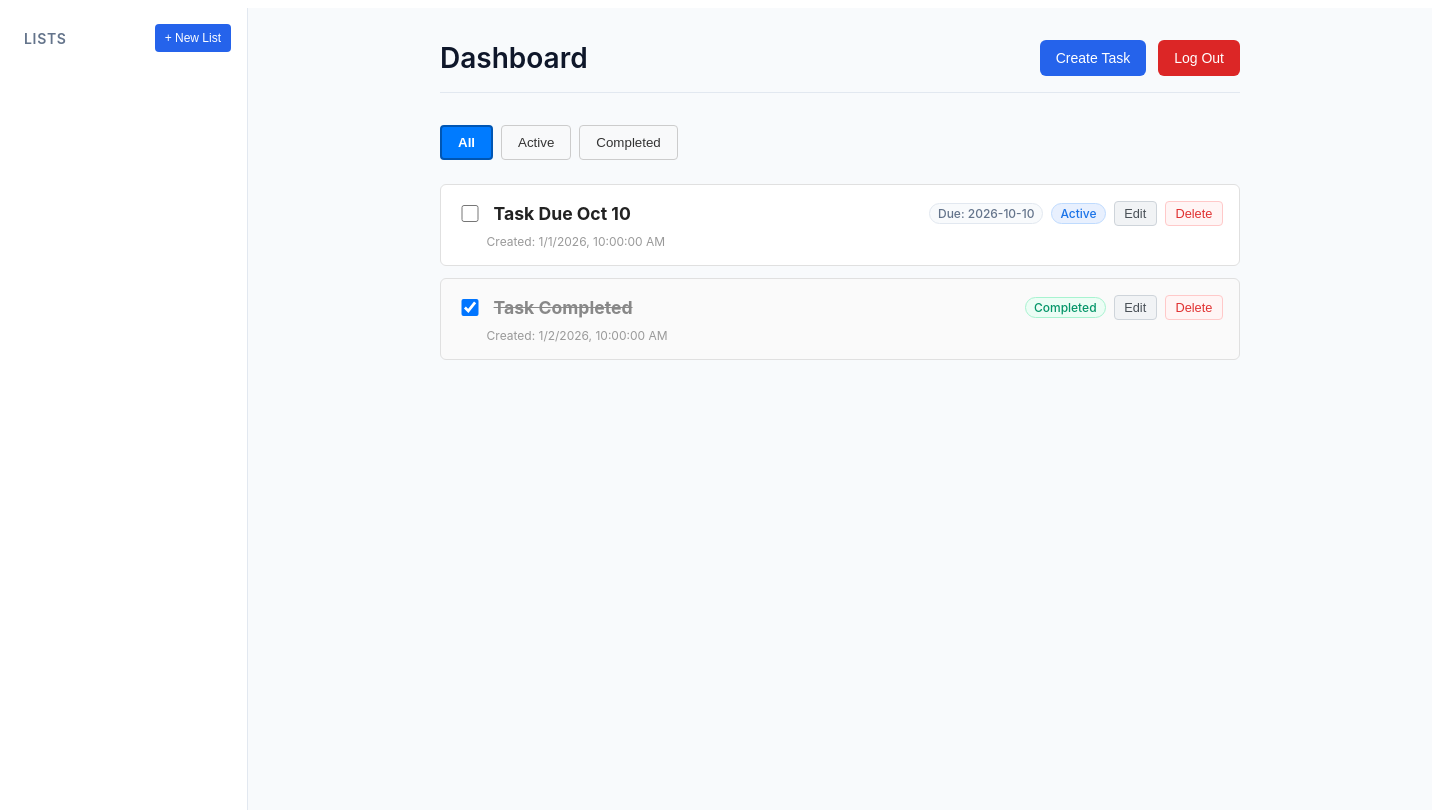
Dashboard Deadline-Aware Ordering Preservation (T4 / AC-1 & AC-2) › maintains deadline-aware ordering when an undated task is created
Expected: the heading "Task Due Oct 10" is shown, [494,203,631,224]
Click the button "Create Task". click: click(1093, 58)
box: [1040,40,1146,76]
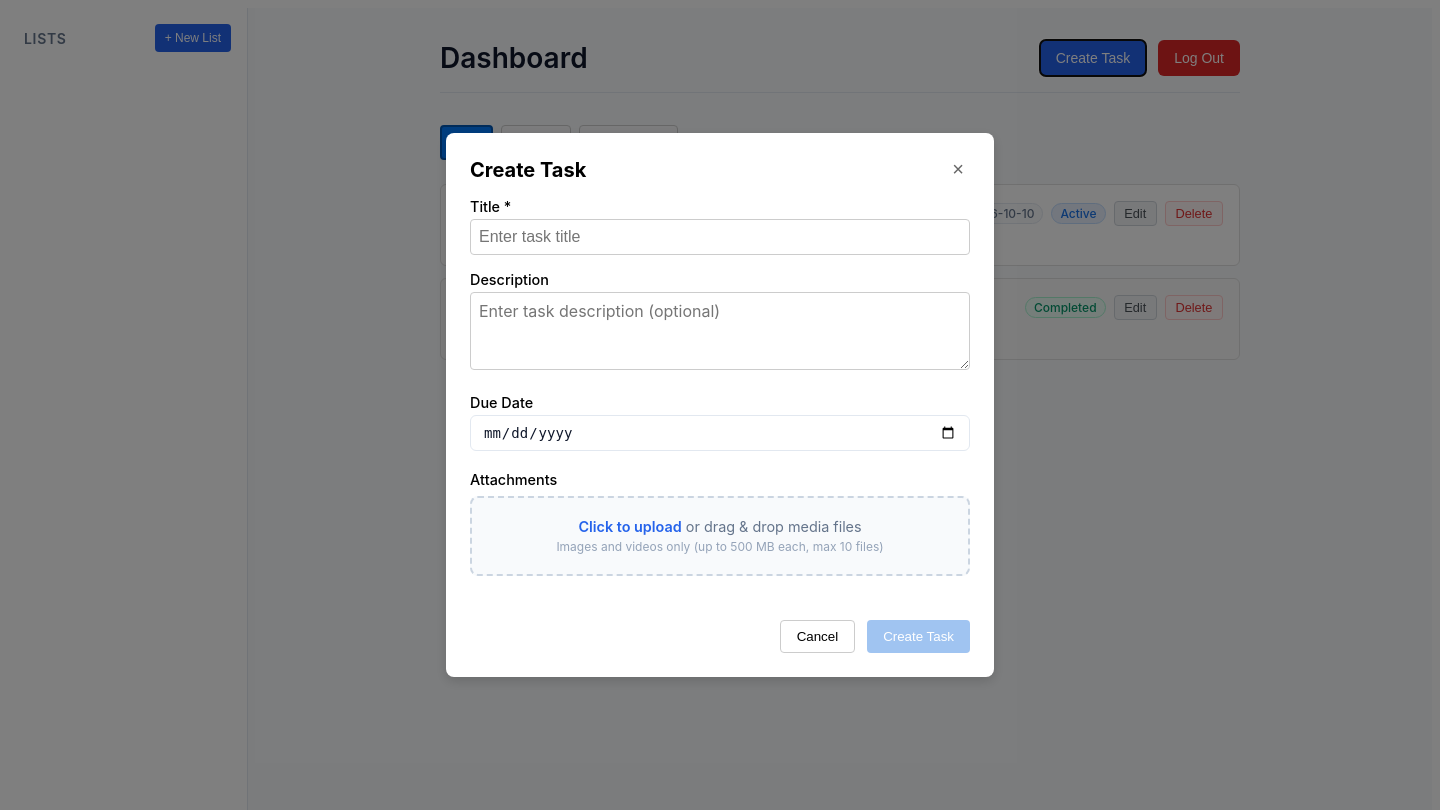
Type "New Undated Task" into the field labelled "Title *". click: (720, 237)
box: [470,219,970,255]
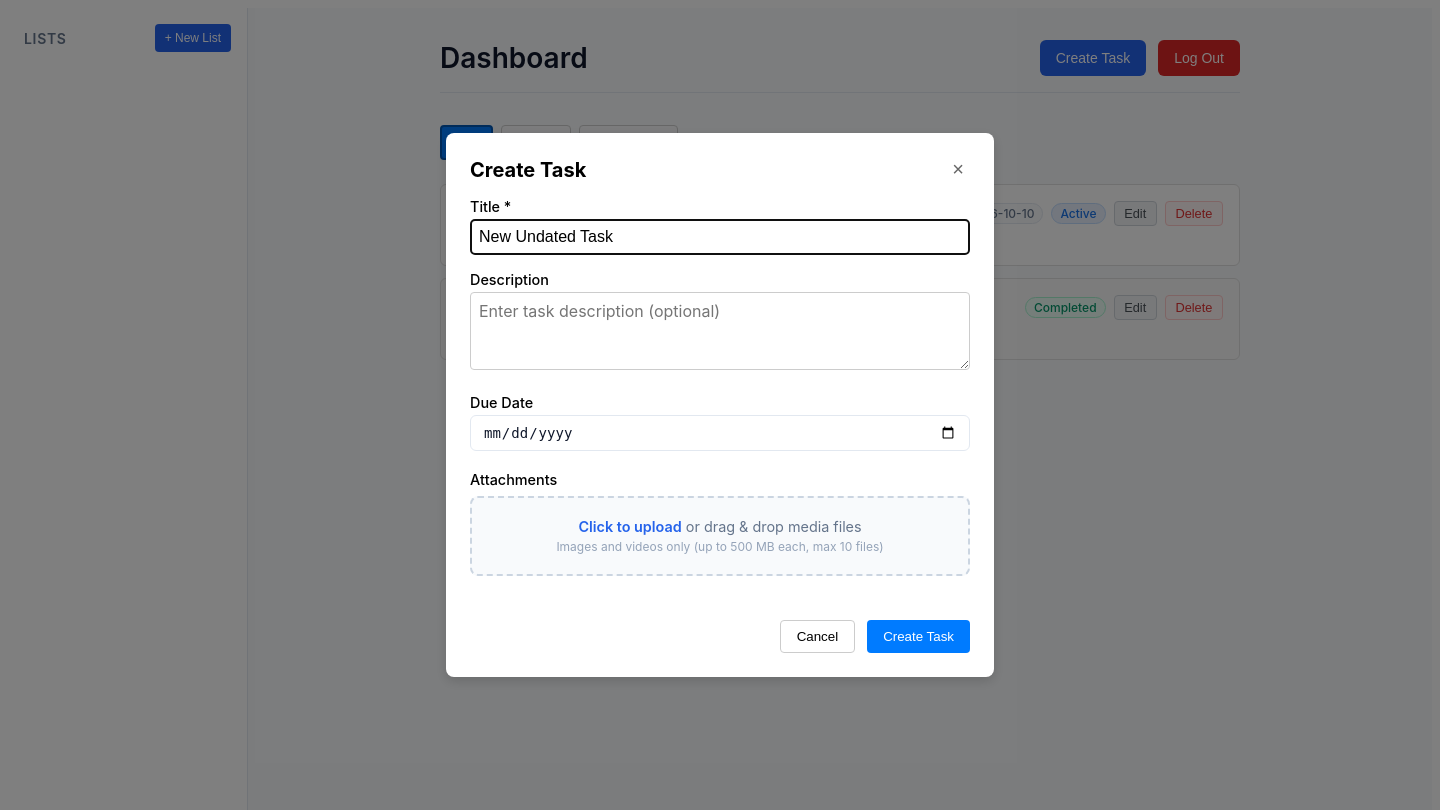
Click the button "Create Task". click: click(919, 636)
box: [867,620,970,653]
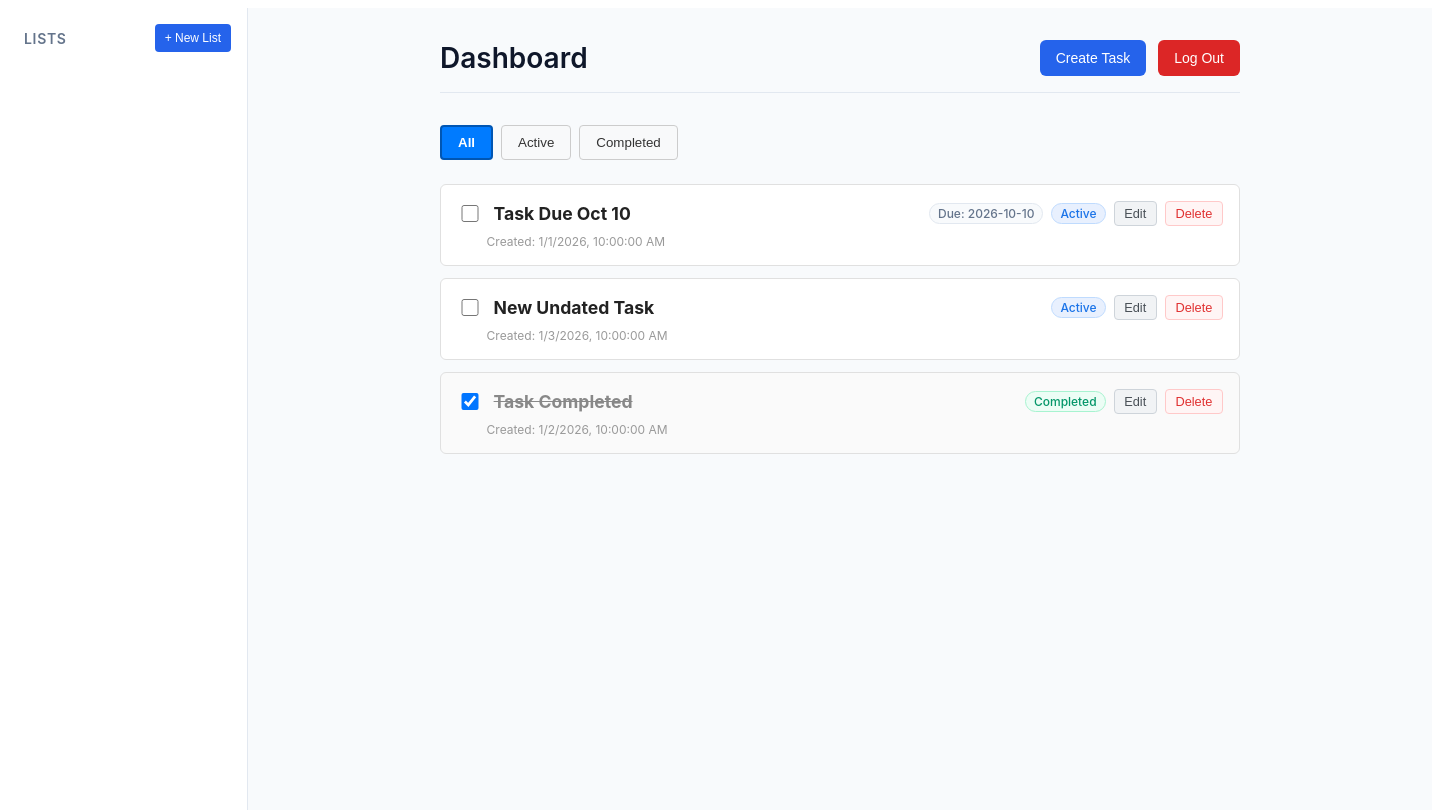
Expected: the dialog is gone
Expected: the heading "New Undated Task" is shown, [494,297,654,318]
Expected: the headings read "Task Due Oct 10", "New Undated Task", "Task Completed", in this order, [494,203,631,224]; [494,297,654,318]; [494,391,632,412]
